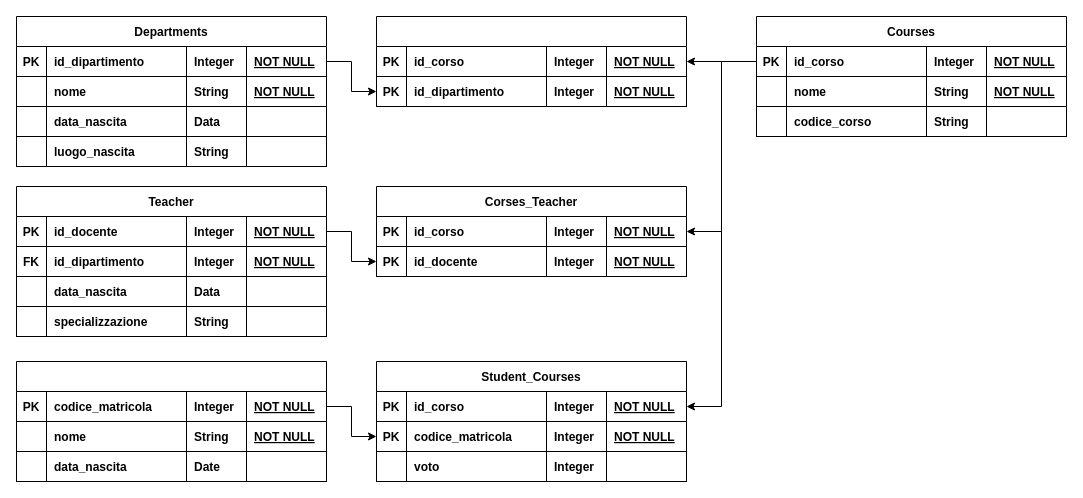
The diagram is 1083 pixels wide and 498 high, and some of its shapes have lost their labels. The shapes that lost their labels are listed below. From the top down, each one's box as (x1, y1, x2, y2) in pixels, then its label:
(376, 16, 686, 106): Departments_Courses
(16, 360, 326, 482): Student
